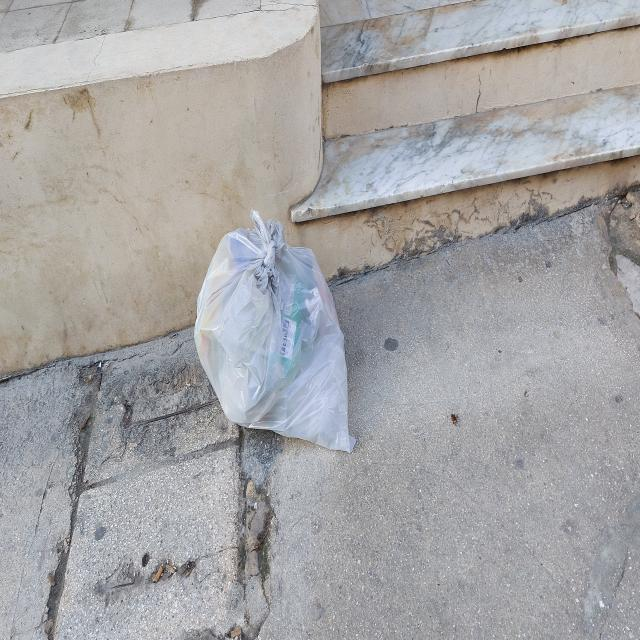Organic Waste -White Bag-: (194, 224, 359, 450)
